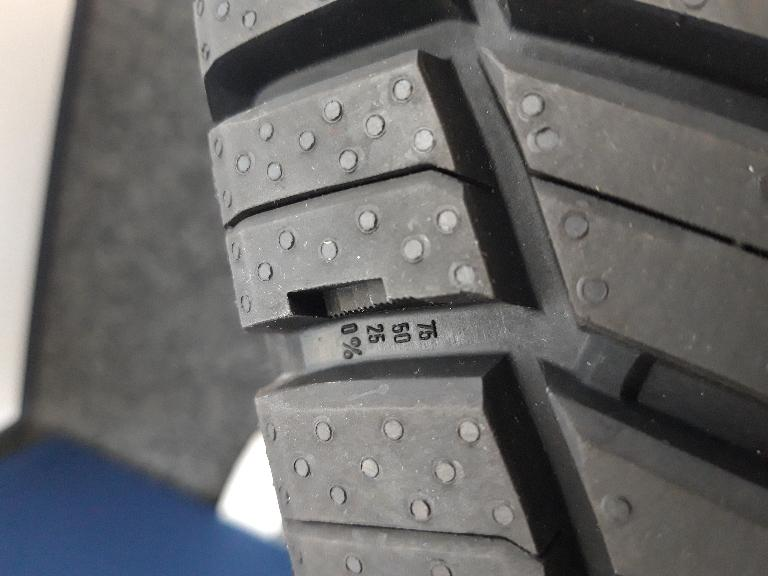temoin:100: (285, 276, 434, 322)
